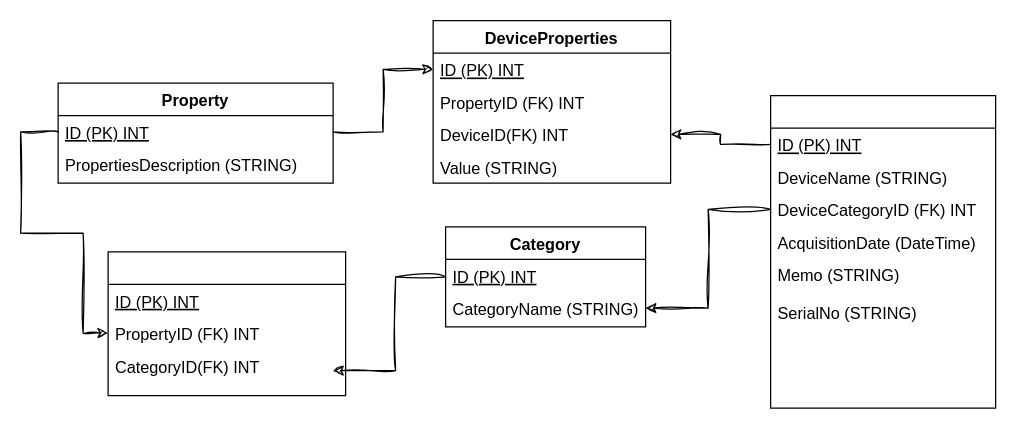
Some shapes in this 1016 by 429 pixel diagram are drawn without their labels. The shapes that lost their labels are listed below. From the top down, each one's box as (x1, y1, x2, y2) in pixels, then its label:
(769, 94, 996, 408): Devices
(107, 251, 346, 396): CategorieProperties
